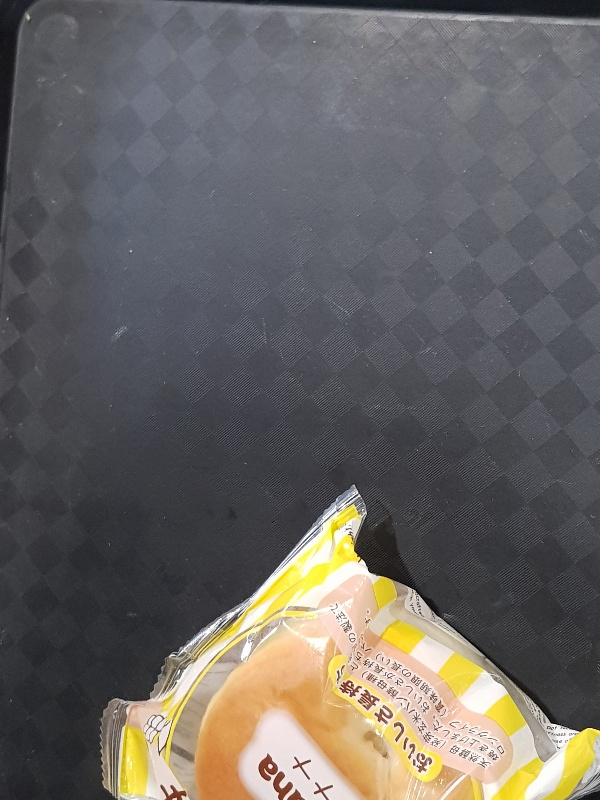Dayplus Banana: (97, 483, 599, 800)
